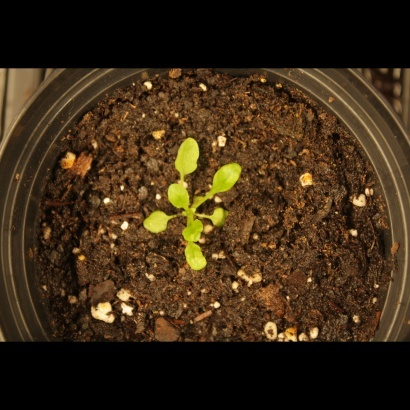leaf: (210, 157, 243, 201), (171, 136, 205, 178), (138, 206, 172, 241), (182, 242, 212, 277), (206, 203, 238, 233), (163, 178, 191, 210), (180, 217, 208, 245)
